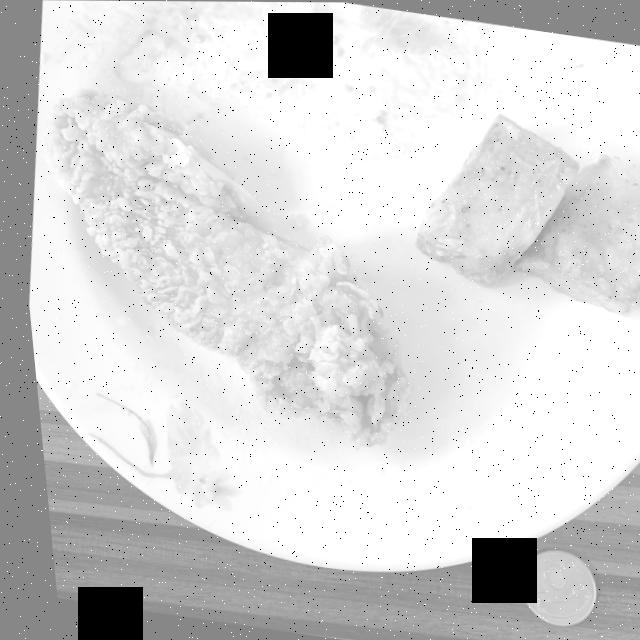coin: (508, 549, 584, 625)
fried chicken cutlet: (38, 88, 405, 448)
fried potato: (410, 114, 640, 315)
